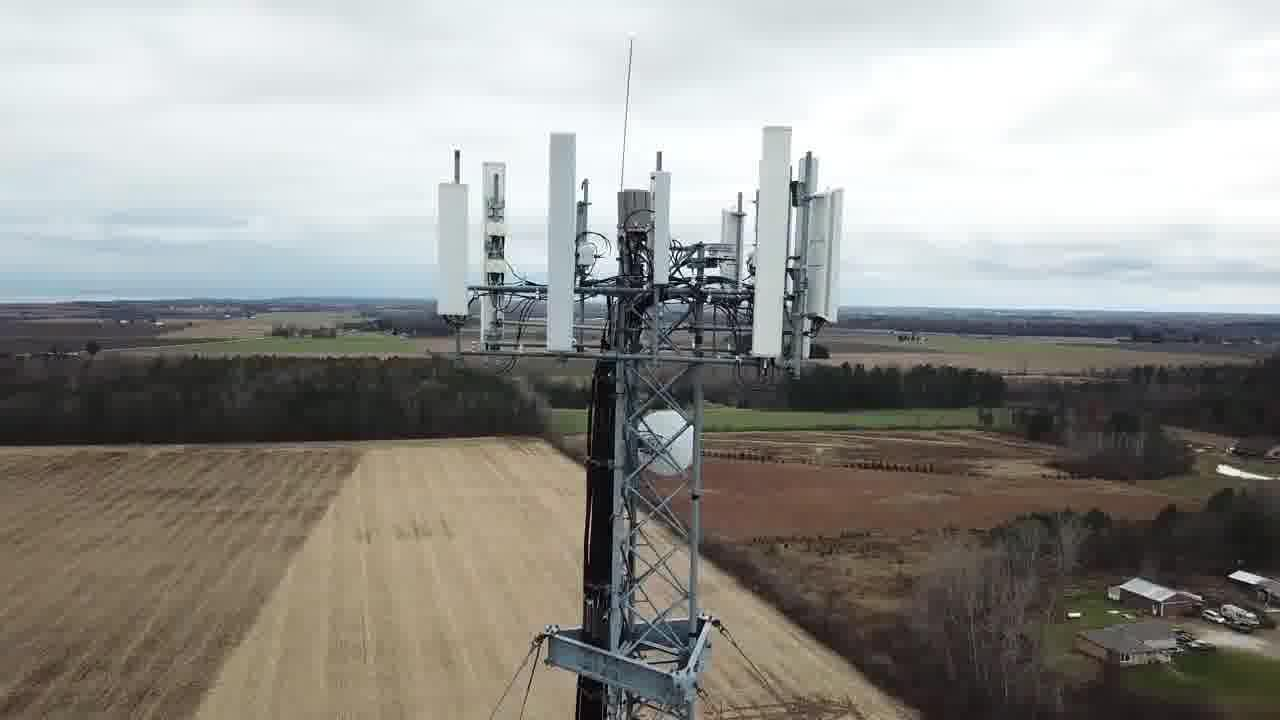Microwave Antenna: (623, 405, 704, 492)
antenna: (749, 113, 796, 360), (542, 126, 585, 353), (798, 177, 844, 326), (434, 172, 476, 317), (476, 149, 513, 295), (650, 159, 675, 289)
